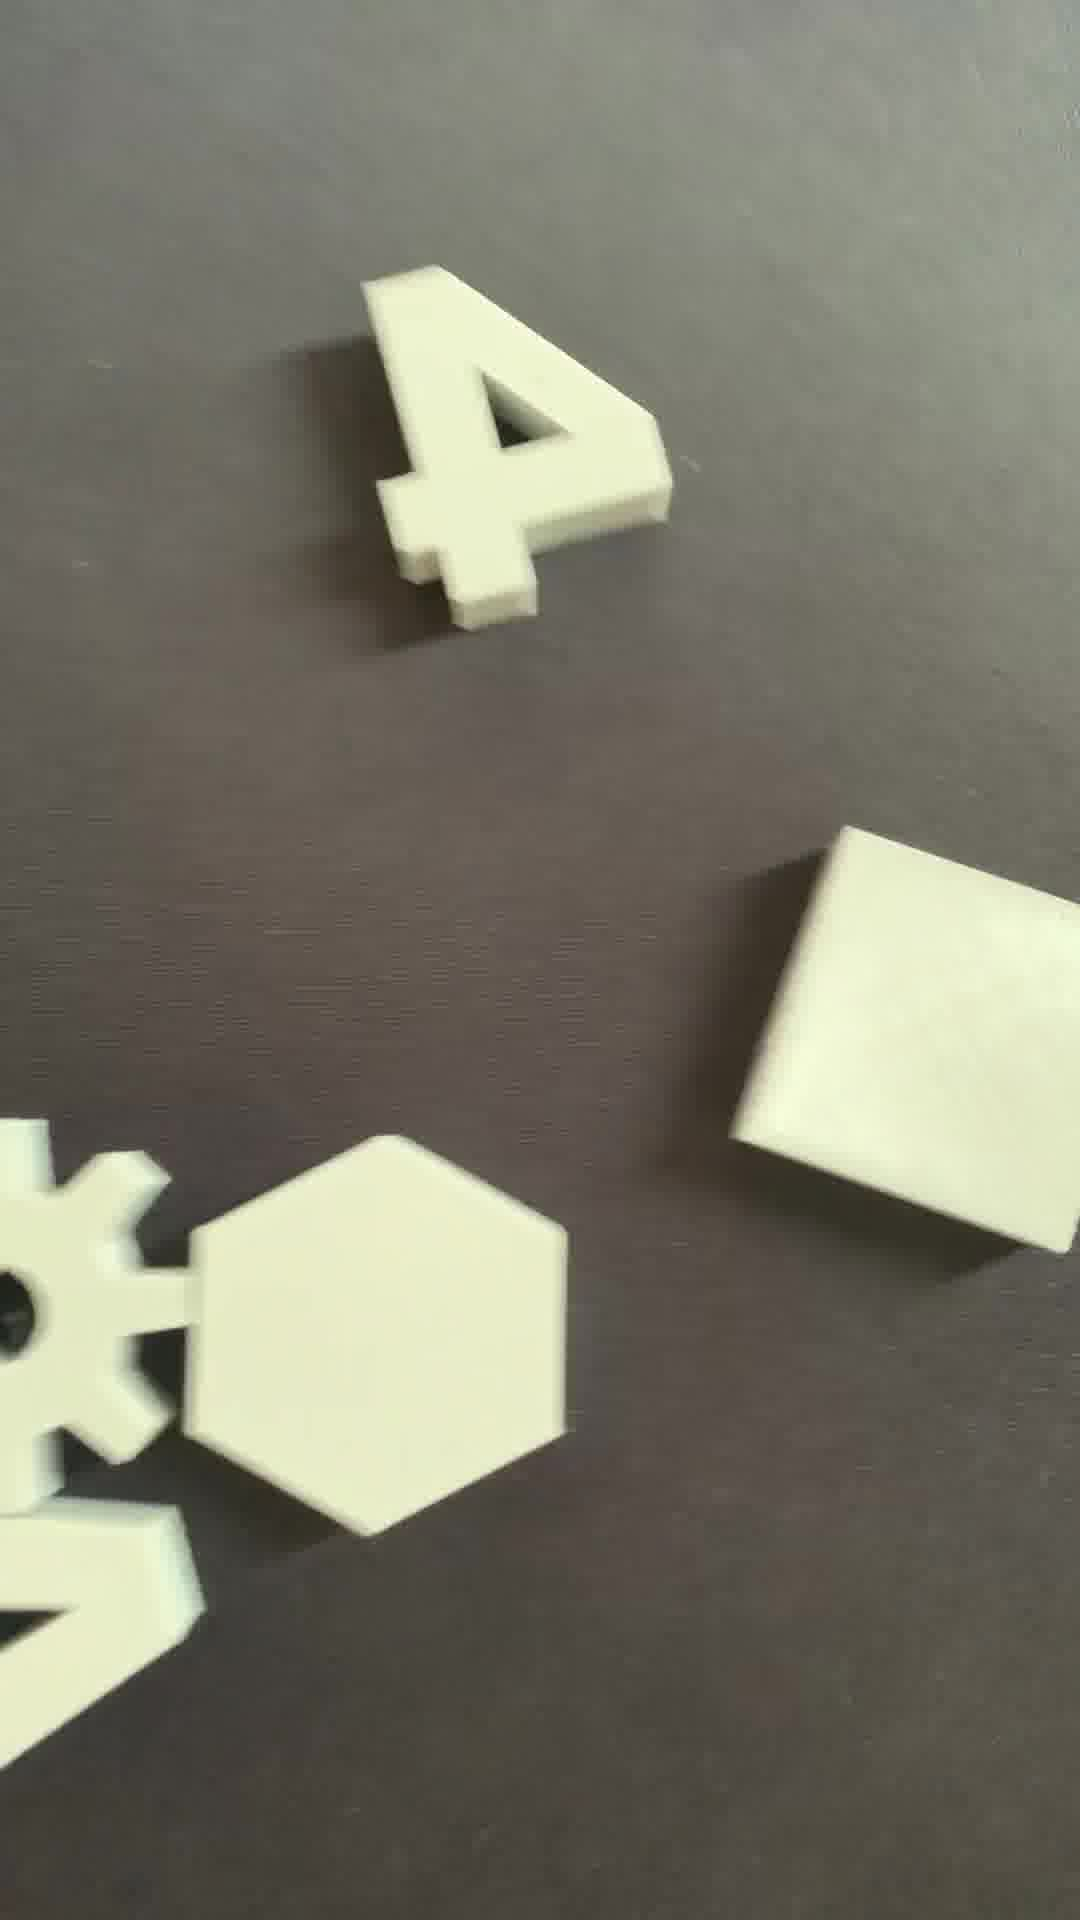Gray A-letter: (1, 1518, 223, 1799)
Gray four: (363, 251, 684, 642)
Gray gear: (7, 1118, 229, 1510)
Gray hexagon: (174, 1127, 589, 1544)
Gray square: (729, 810, 1080, 1267)
